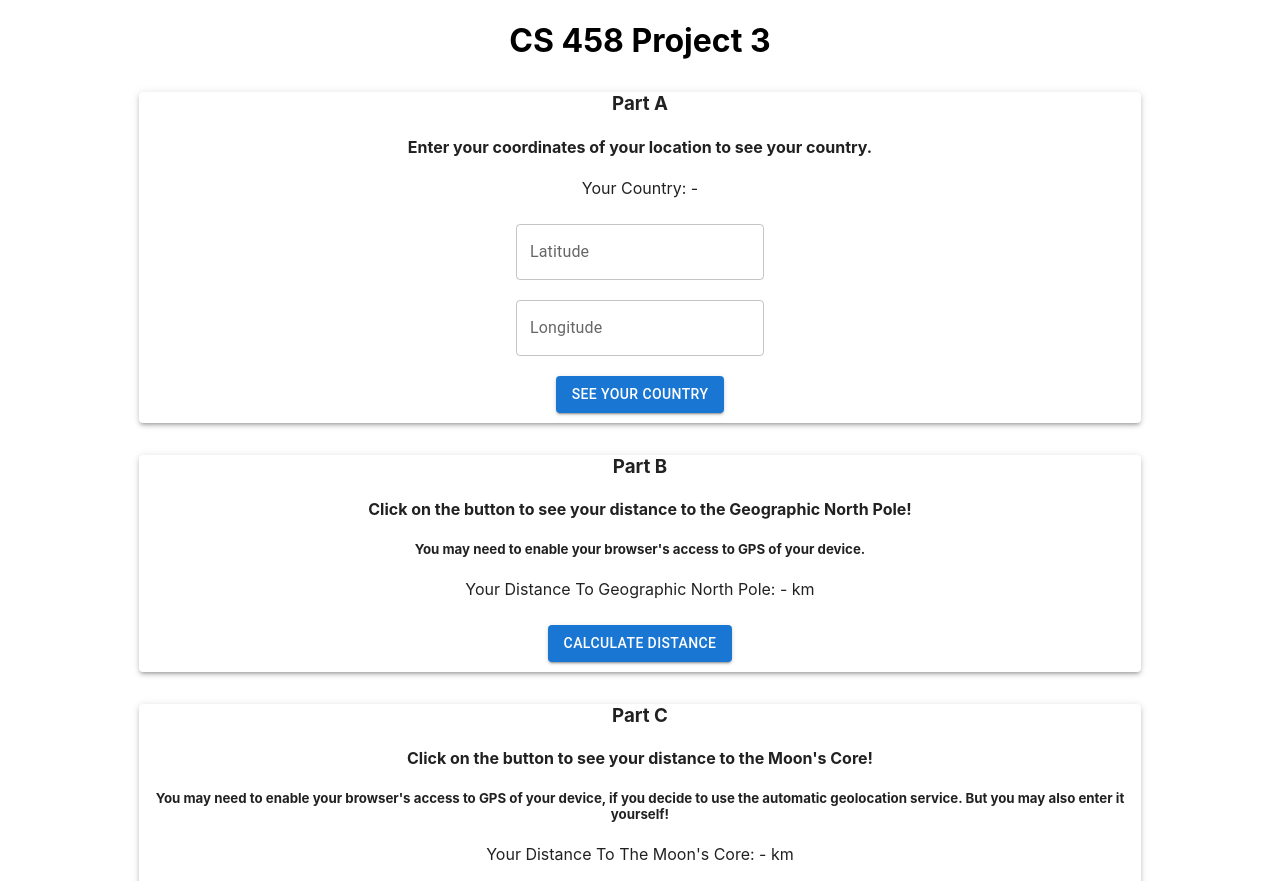
Scenario: Checking for the input to part A for both lat/long: › do not accept wrong coordinates (both)
Type "-110.1054" into the field with test id "part-a-field-1" at [640, 252], box [516,224,764,280]
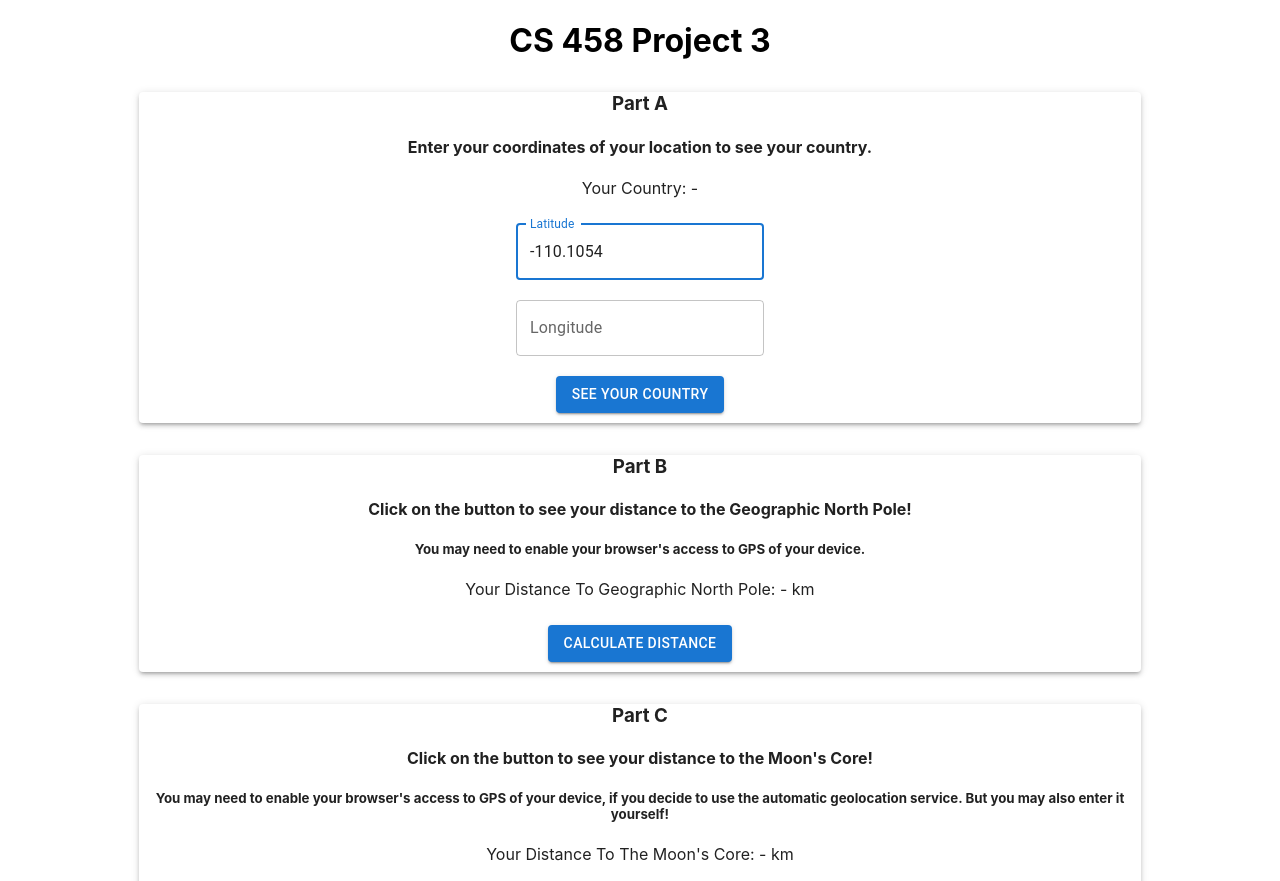
Type "280.5610" into the field with test id "part-a-field-2" at [640, 328], box [516,300,764,356]
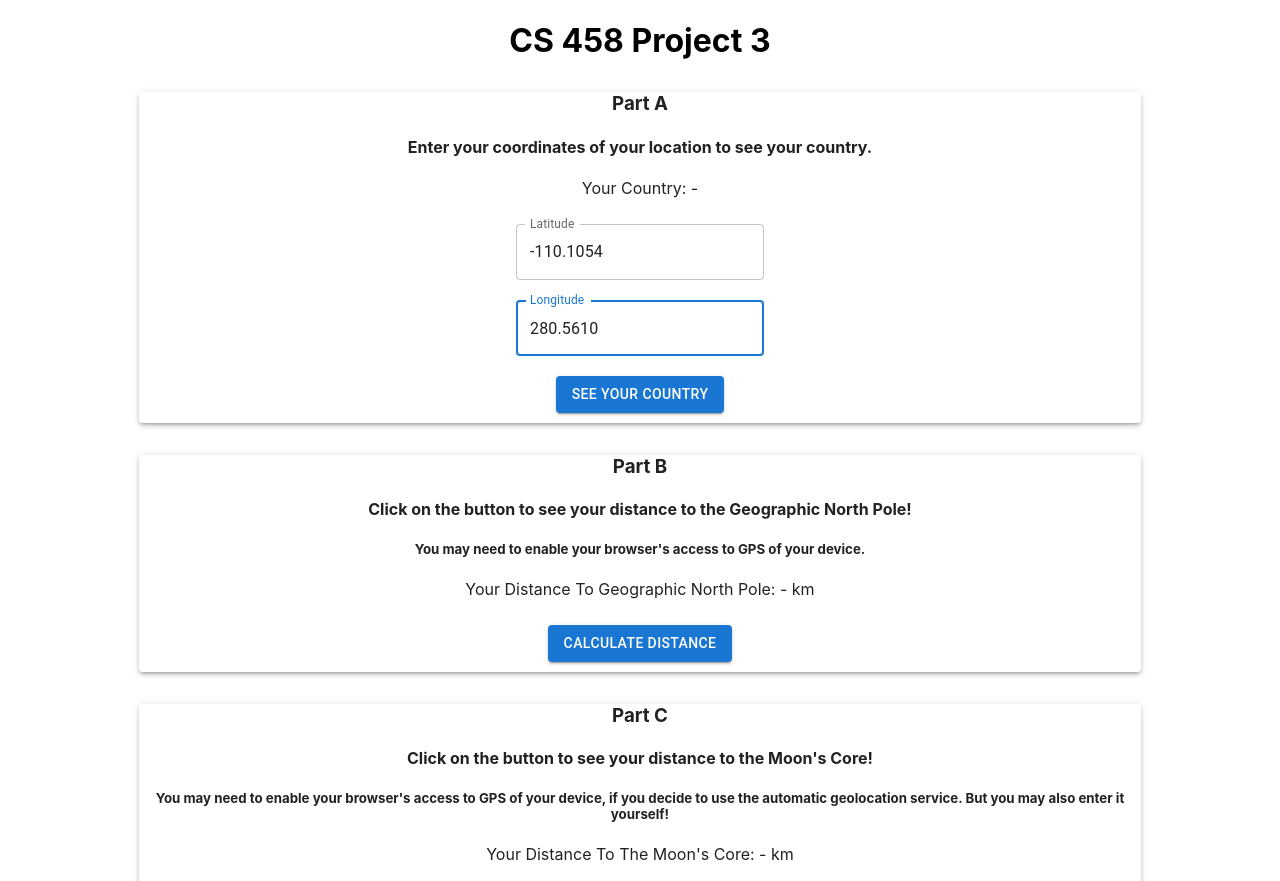
Click the button with test id "part-a-button" at [640, 394], box [556,376,724,412]
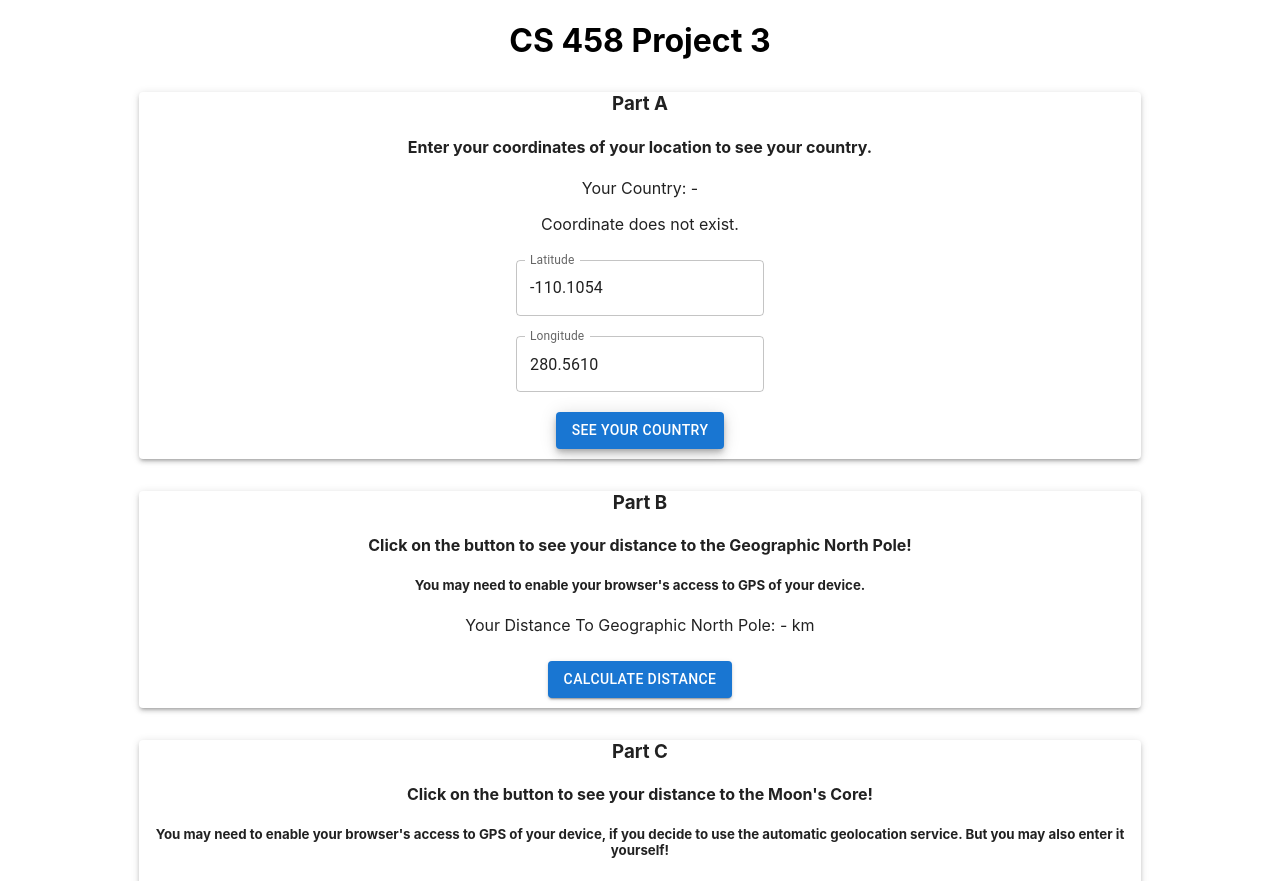
Expected: the text with test id "part-a-paragraph" shows "-", [691,178,698,198]
Expected: the text with test id "part-a-error" reads "Coordinate does not exist.", [541,214,739,234]
